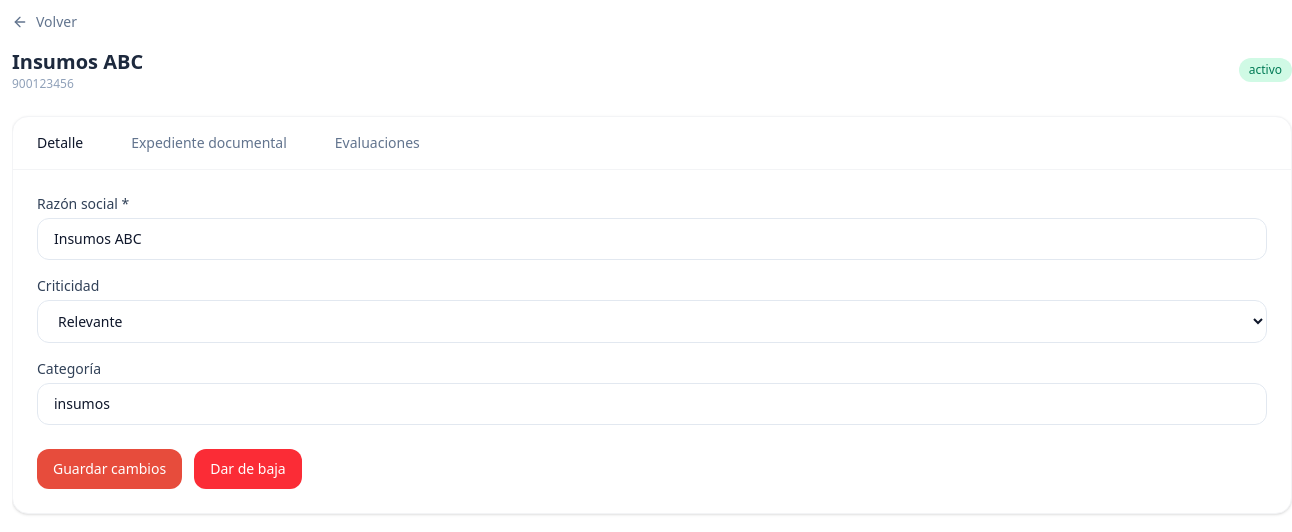
Test case: ProveedorDetalle › hides "Programar evaluación" when there is already a pendiente/en_proceso evaluación
Expected: the heading "Insumos ABC" is shown, [12,48,143,76]
Click the tab "Evaluaciones" at (377, 143), box [311,117,444,169]
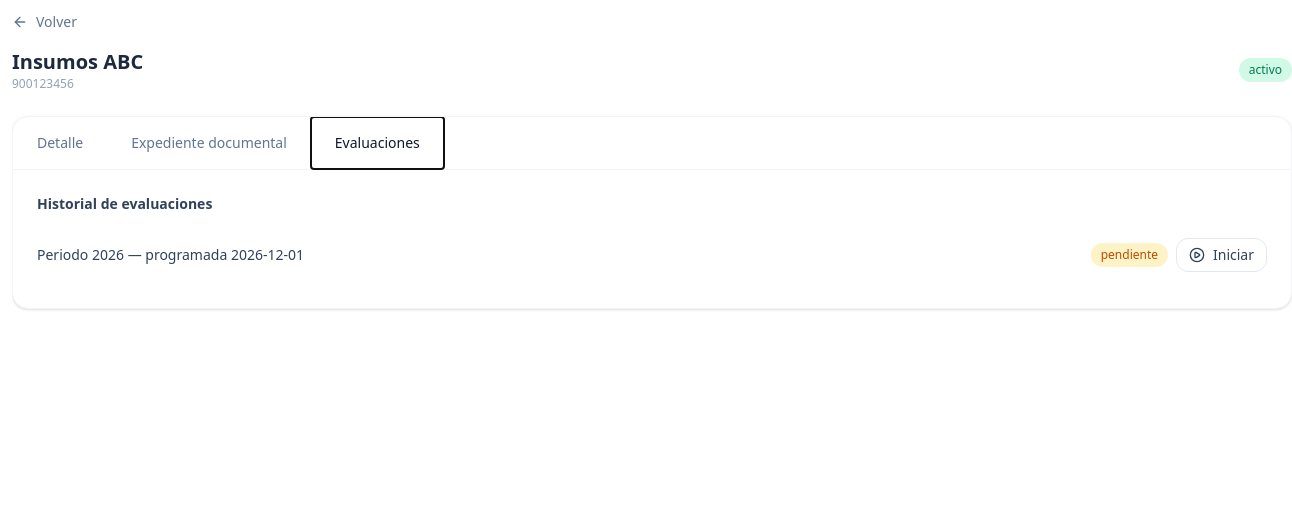
Now the text "Periodo 2026 — programada 2026-12-01" is shown, box [37,245,304,265]
